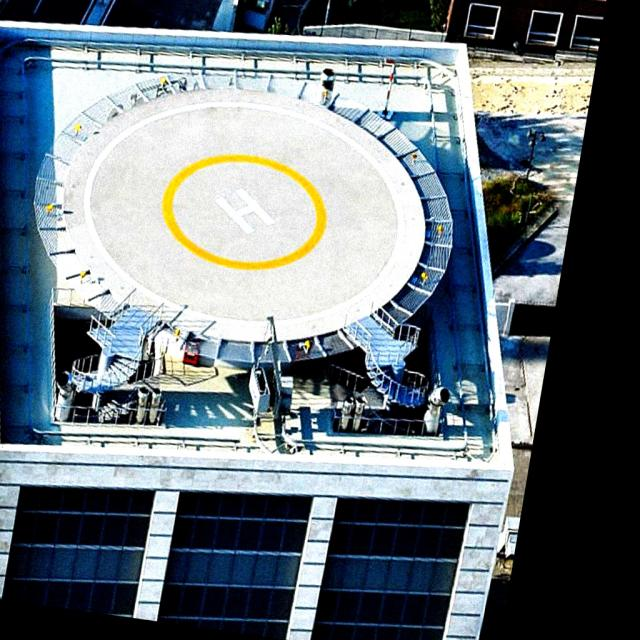helipad: (158, 148, 332, 273)
